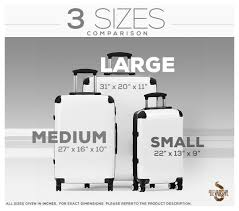suitcase: (80, 53, 159, 182), (54, 68, 121, 187), (132, 92, 186, 189)
